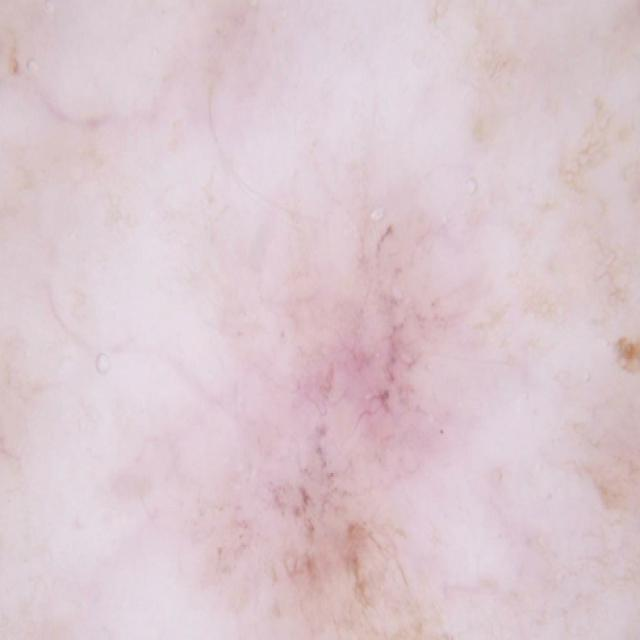Carcinoma: (274, 204, 518, 488), (193, 526, 513, 640)
